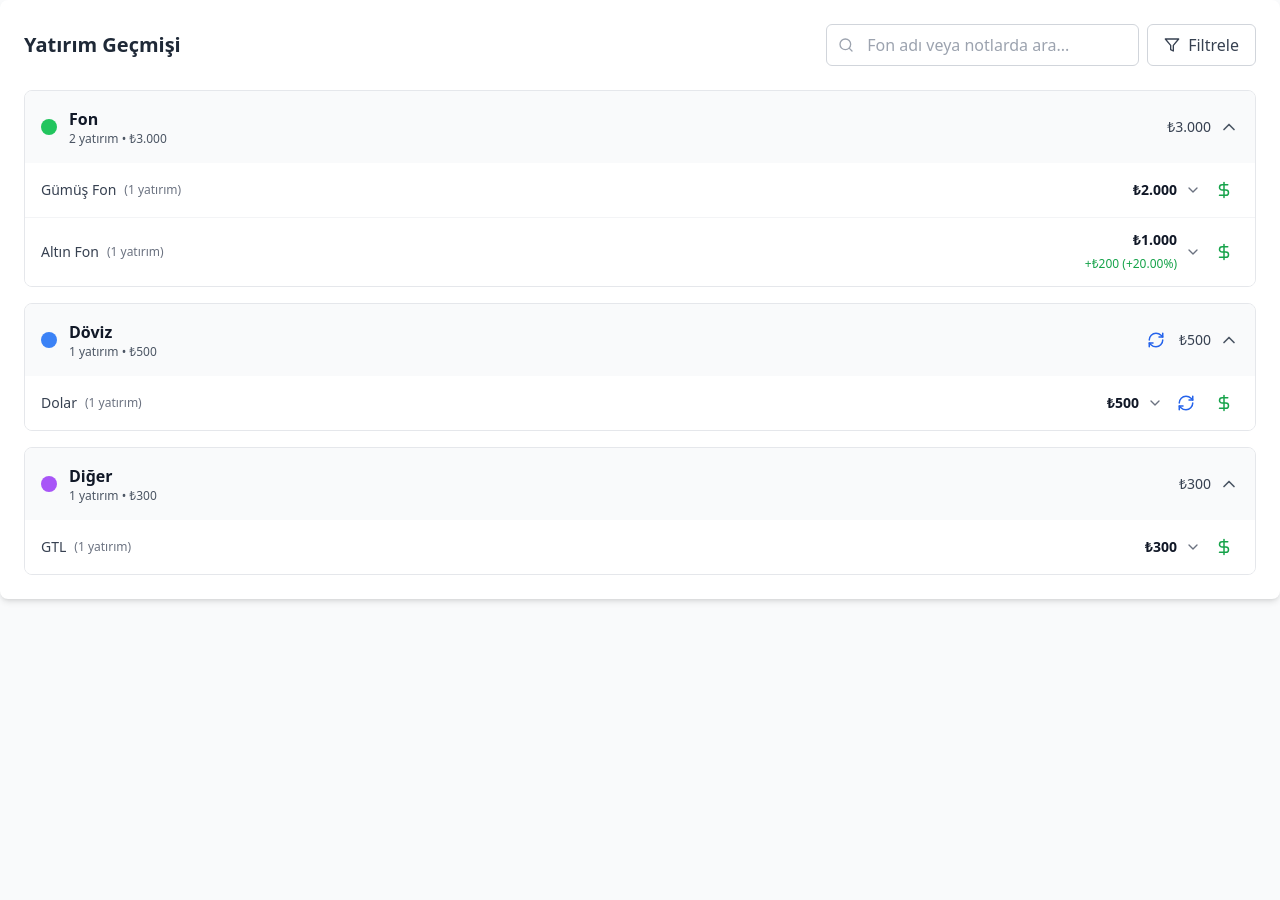
InvestmentList › Filter functionality › should show filter panel when filter button is clicked
What coordinates should you click on to do the following:
click the button with aria-label "filtreleri göster"
I would click on:
 (1202, 45)
Its box is [1147,24,1256,66].
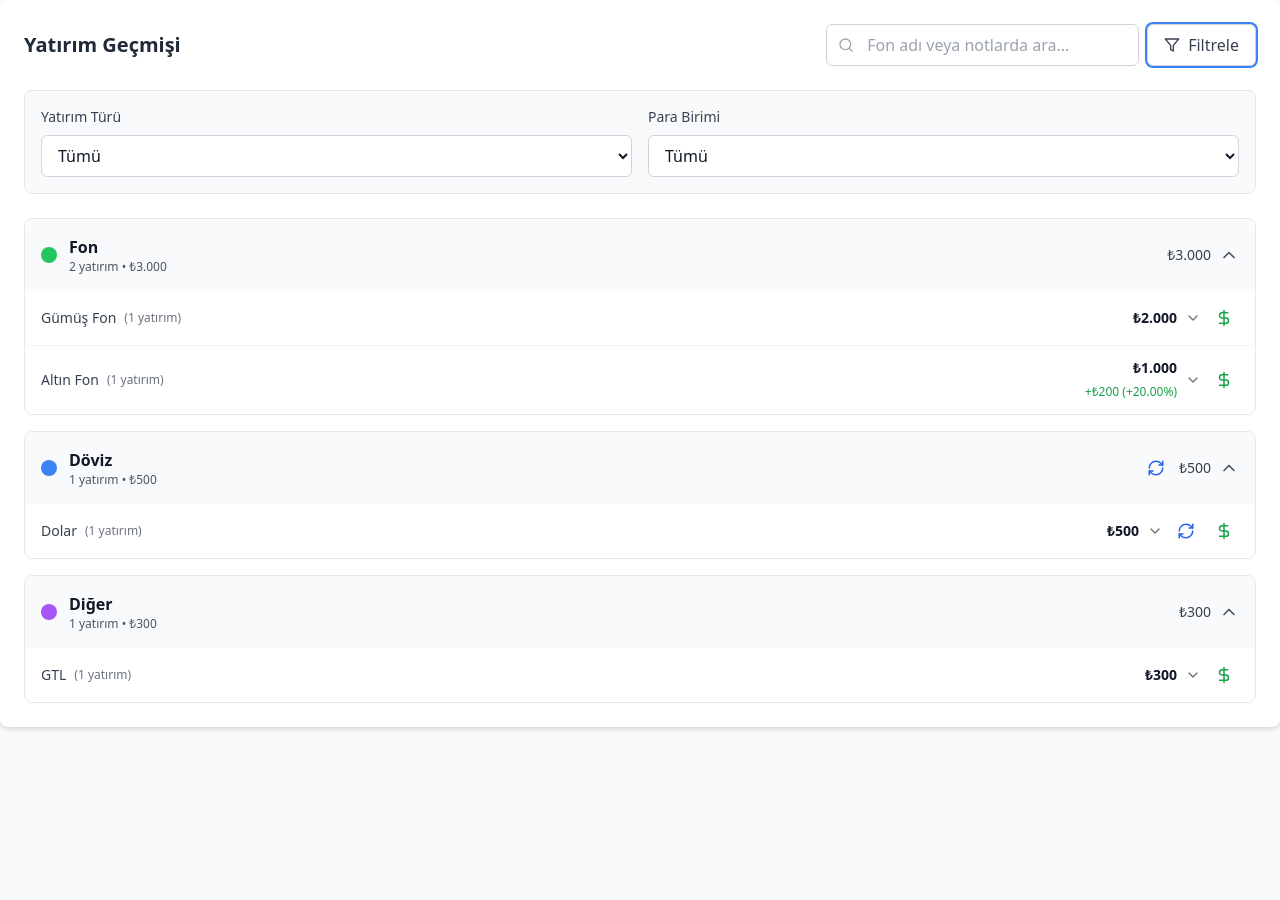
Expected: the element named "filtre seçenekleri" is shown, [24,90,1256,194]
